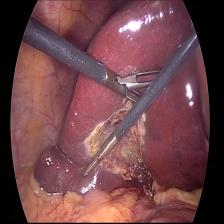Grasper: (113, 61, 163, 106), (81, 127, 118, 182)
